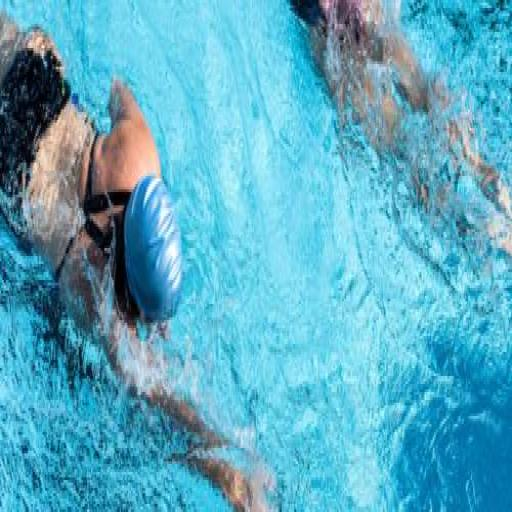swimming: (0, 3, 279, 509), (286, 0, 511, 272)
